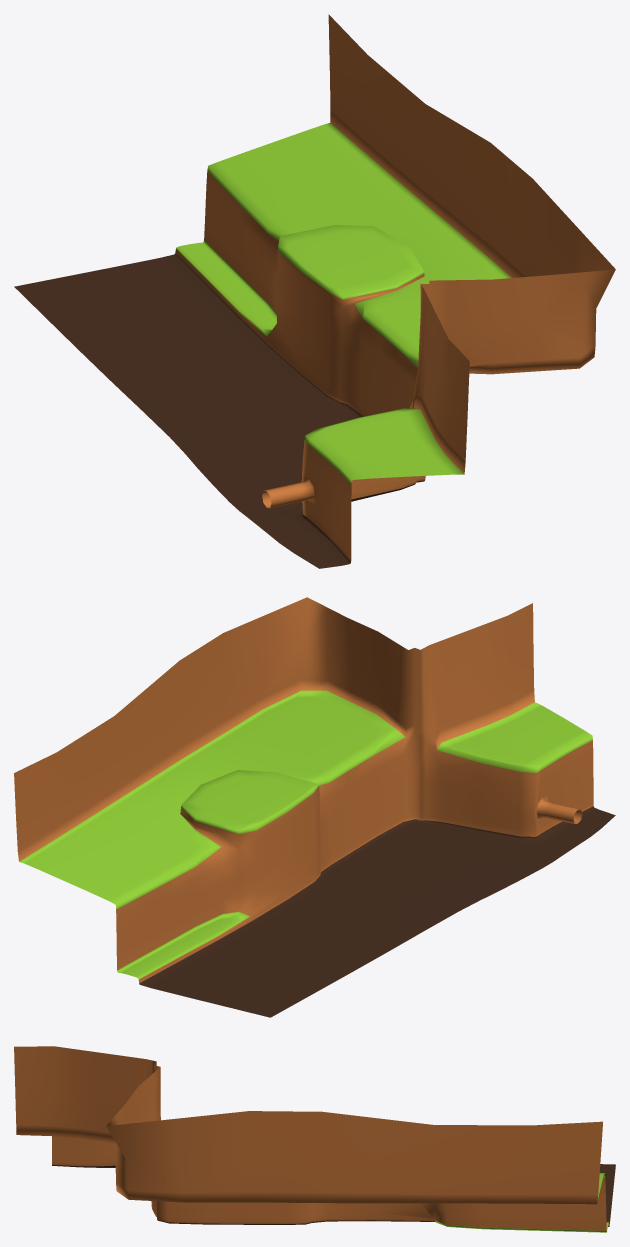
3 renders of one model, top to bottom at view 1: azimuth 30°, elevation 25°; view 2: azimuth 150°, elevation 25°; view 3: azimuth 270°, elevation 25°, orthographic. The views are drawn at different scales.
Visible parts, largest first — view 1: pCube7; view 2: pCube7; view 3: pCube7.
Boxes of the visible parts, bbox=[...] form: pCube7: bbox=[14, 14, 615, 568]; pCube7: bbox=[14, 597, 615, 1017]; pCube7: bbox=[14, 1046, 615, 1232].
Size of the model in its own units: 220 by 129 by 403.
Materials: 1 (1 with a texture image).
